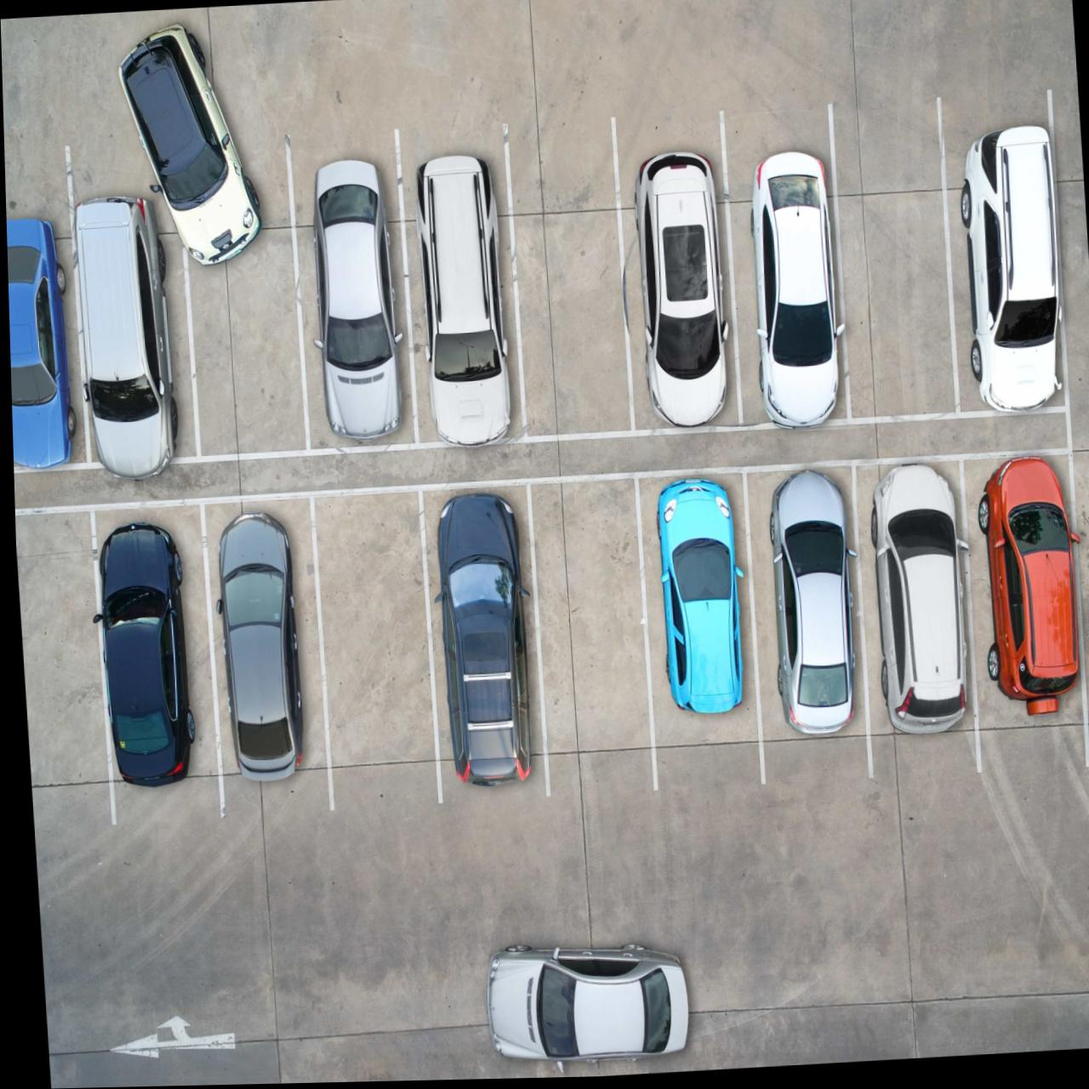cars: (85, 495, 221, 793), (745, 469, 877, 755), (201, 514, 333, 799), (959, 454, 1089, 738), (69, 198, 199, 476), (938, 133, 1065, 417), (290, 170, 418, 450), (850, 474, 979, 749), (180, 181, 303, 458), (422, 507, 541, 788), (632, 483, 752, 760), (402, 170, 523, 443), (722, 141, 836, 429), (616, 159, 730, 426), (6, 212, 88, 477)
empty: (527, 493, 654, 782), (834, 121, 957, 412), (320, 487, 434, 795), (516, 171, 639, 442), (15, 501, 105, 802)
